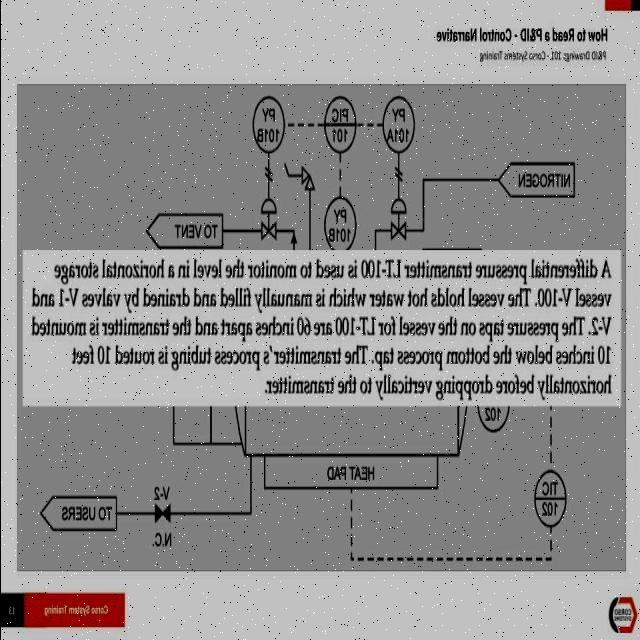Angle Valve: (296, 152, 322, 200)
Closed Gate Valve: (152, 500, 180, 524)
Pneumatic-Diaphragm Gate Valve: (255, 192, 283, 244), (387, 194, 413, 244)
